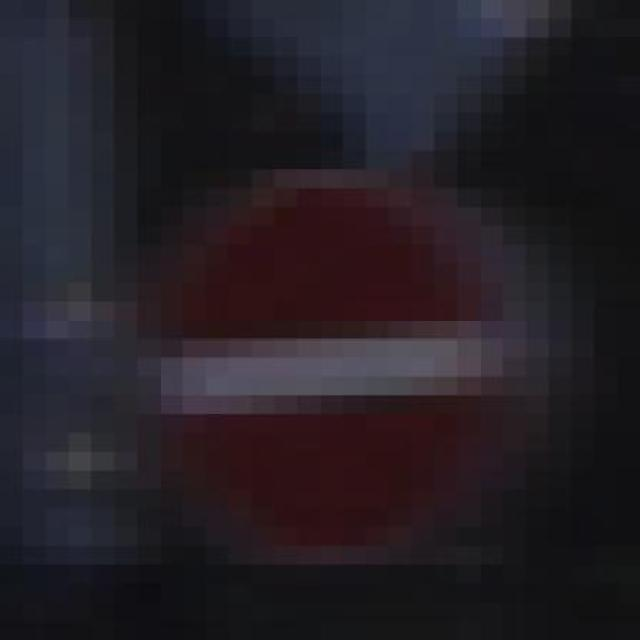B2: (140, 179, 540, 563)
